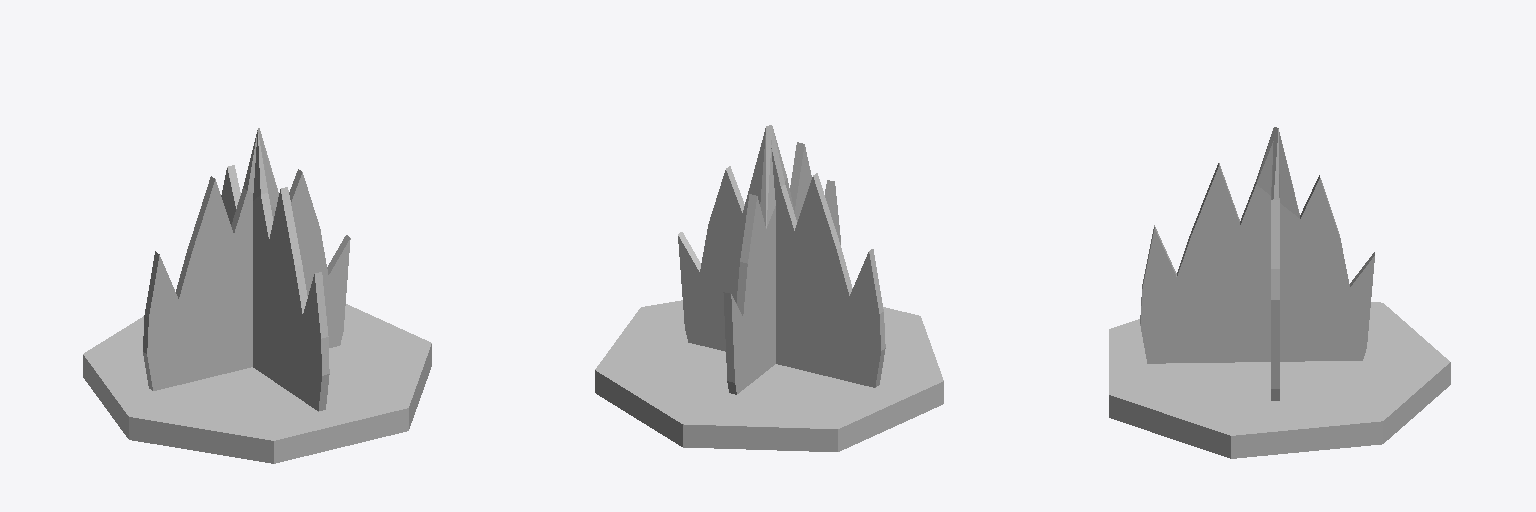
The model's file is fire.obj.
The picture shows the model from 3 angles: view 1: azimuth 30°, elevation 25°; view 2: azimuth 150°, elevation 25°; view 3: azimuth 270°, elevation 25°; orthographic projection.
Visible parts, largest first — view 1: fire_Cylinder; view 2: fire_Cylinder; view 3: fire_Cylinder.
Part boxes in pixels (left/top/right/bottom): fire_Cylinder: left=83, top=128, right=431, bottom=463; fire_Cylinder: left=595, top=125, right=943, bottom=451; fire_Cylinder: left=1109, top=127, right=1450, bottom=458.
Bounding box in the file's own units: 1.95 × 1.59 × 1.9.